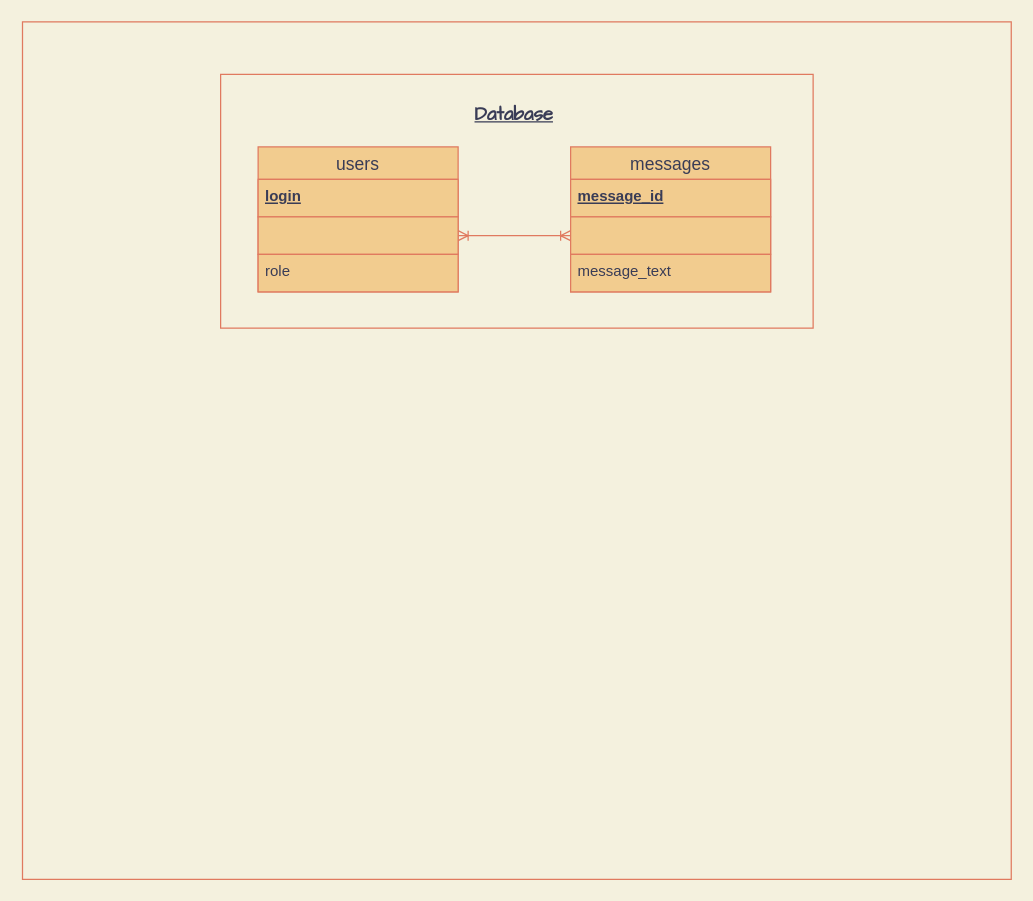
Image size: 1033x901. Some labels were removed from this diagram. The shapes that lost their labels are listed below. From the top down, each one's centre as x and y in pixels, then its label:
At point 357,235: "password".
At point 670,235: "message_date".
